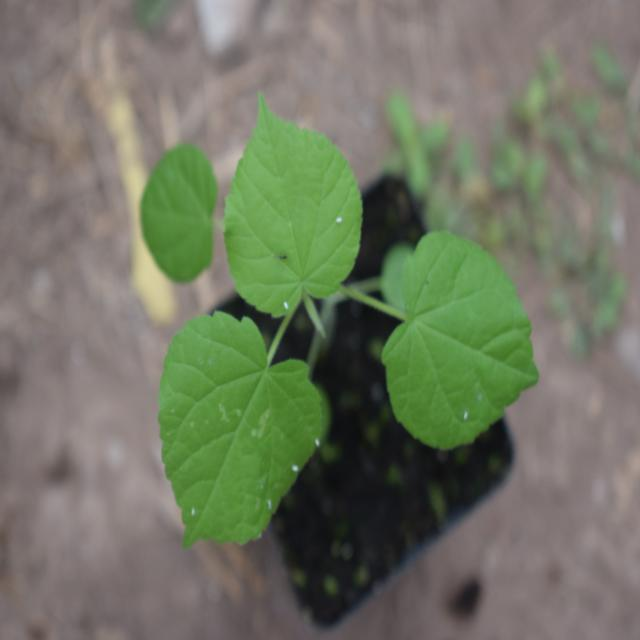abutilon theophrasti: (106, 86, 523, 533)
